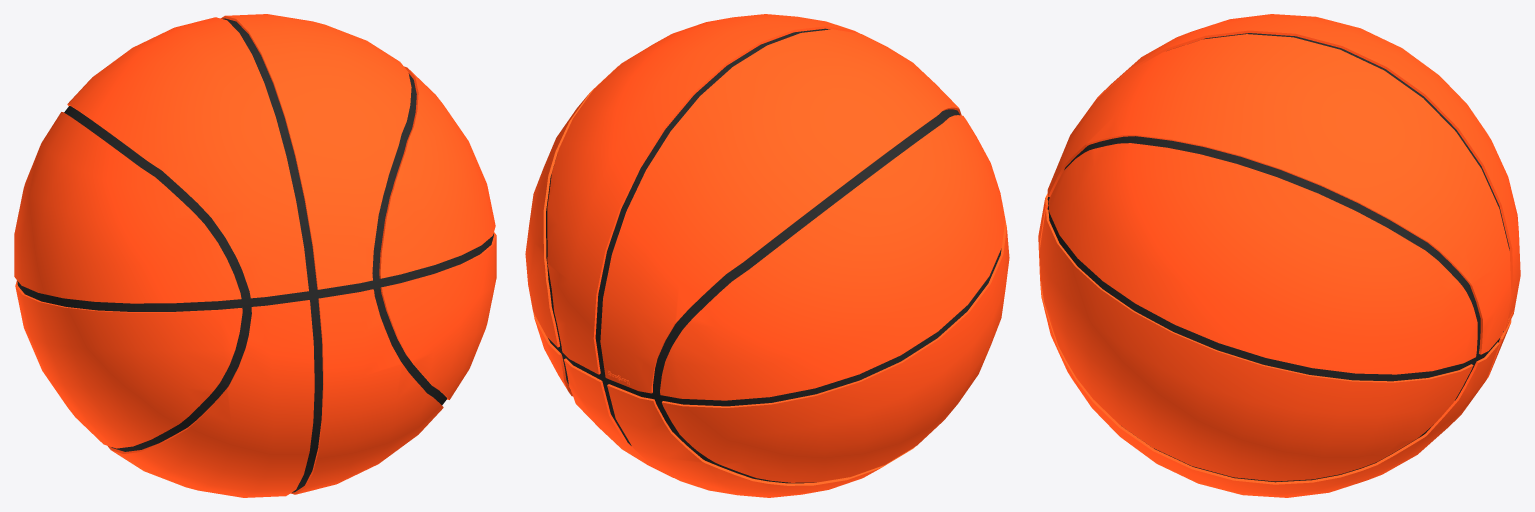
The model's file is basketball.gltf.
3 renders of one model, left to right at view 1: azimuth 30°, elevation 25°; view 2: azimuth 150°, elevation 25°; view 3: azimuth 270°, elevation 25°, orthographic.
Visible parts, largest first — view 1: Cube.810; view 2: Cube.810; view 3: Cube.810.
Boxes of the visible parts, bbox=[...] form: Cube.810: bbox=[14, 14, 496, 497]; Cube.810: bbox=[525, 14, 1009, 497]; Cube.810: bbox=[1038, 14, 1520, 497].
Size of the model in its own units: 2.32 by 2.32 by 2.31.
Materials: 1 (1 with a texture image).
